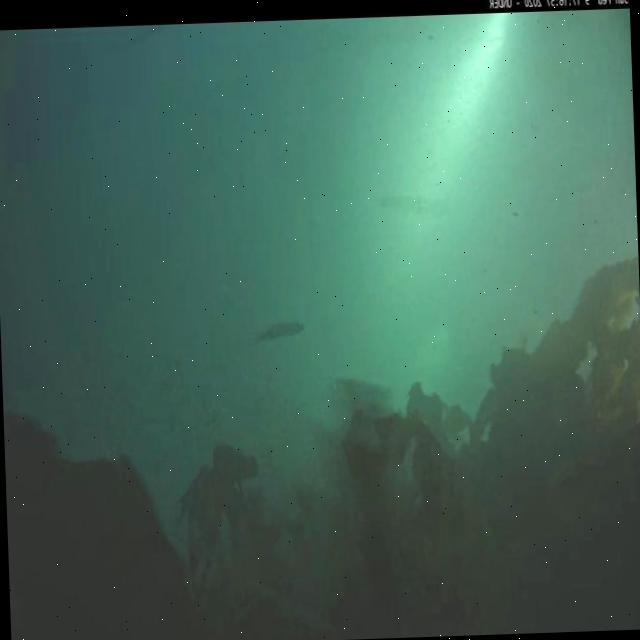fish: (250, 321, 304, 343)
